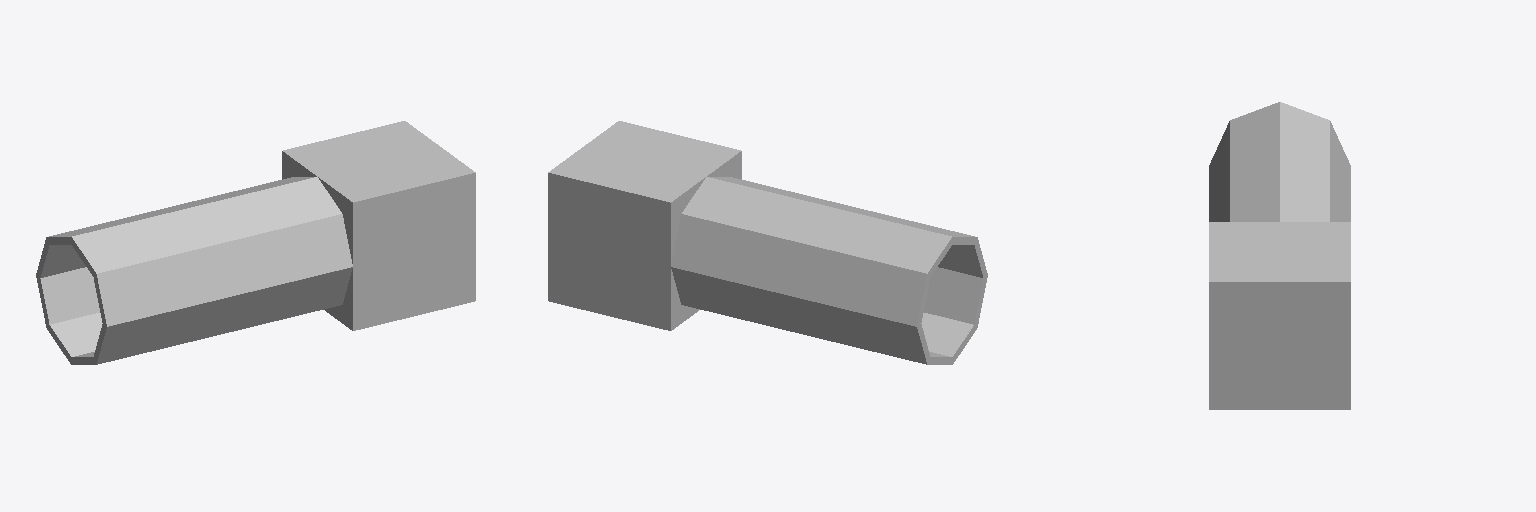
The model's file is drain.obj.
The picture shows the model from 3 angles: view 1: azimuth 30°, elevation 25°; view 2: azimuth 150°, elevation 25°; view 3: azimuth 270°, elevation 25°; orthographic projection.
Parts seen in each view (by area): view 1: Cube_Cube.001; view 2: Cube_Cube.001; view 3: Cube_Cube.001.
Boxes of the visible parts, x1,y1,x2,y2 form: Cube_Cube.001: [36, 121, 475, 364]; Cube_Cube.001: [548, 121, 987, 364]; Cube_Cube.001: [1209, 102, 1350, 409].
Bounding box in the file's own units: 3 × 1 × 1.